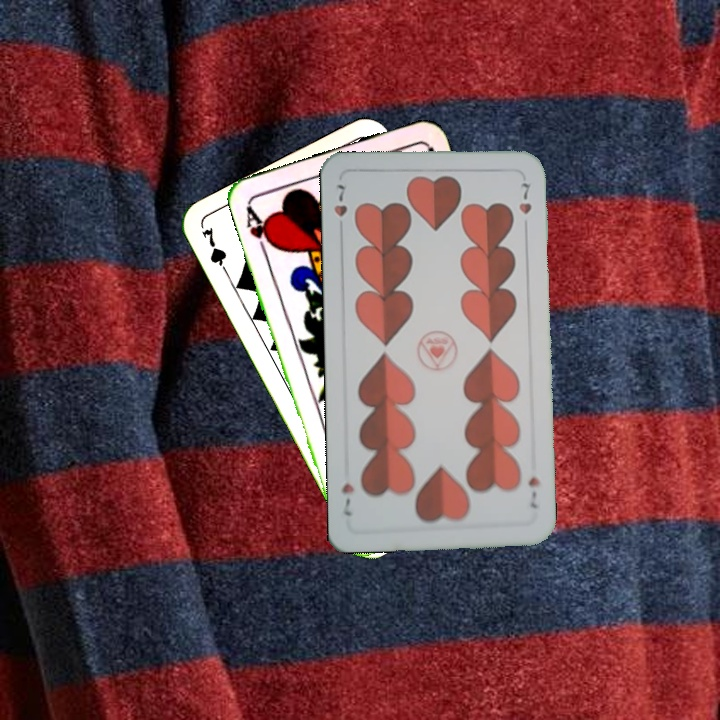G7: (197, 223, 233, 280)
H7: (330, 179, 350, 236), (524, 473, 543, 511)
HA: (242, 199, 278, 257)
